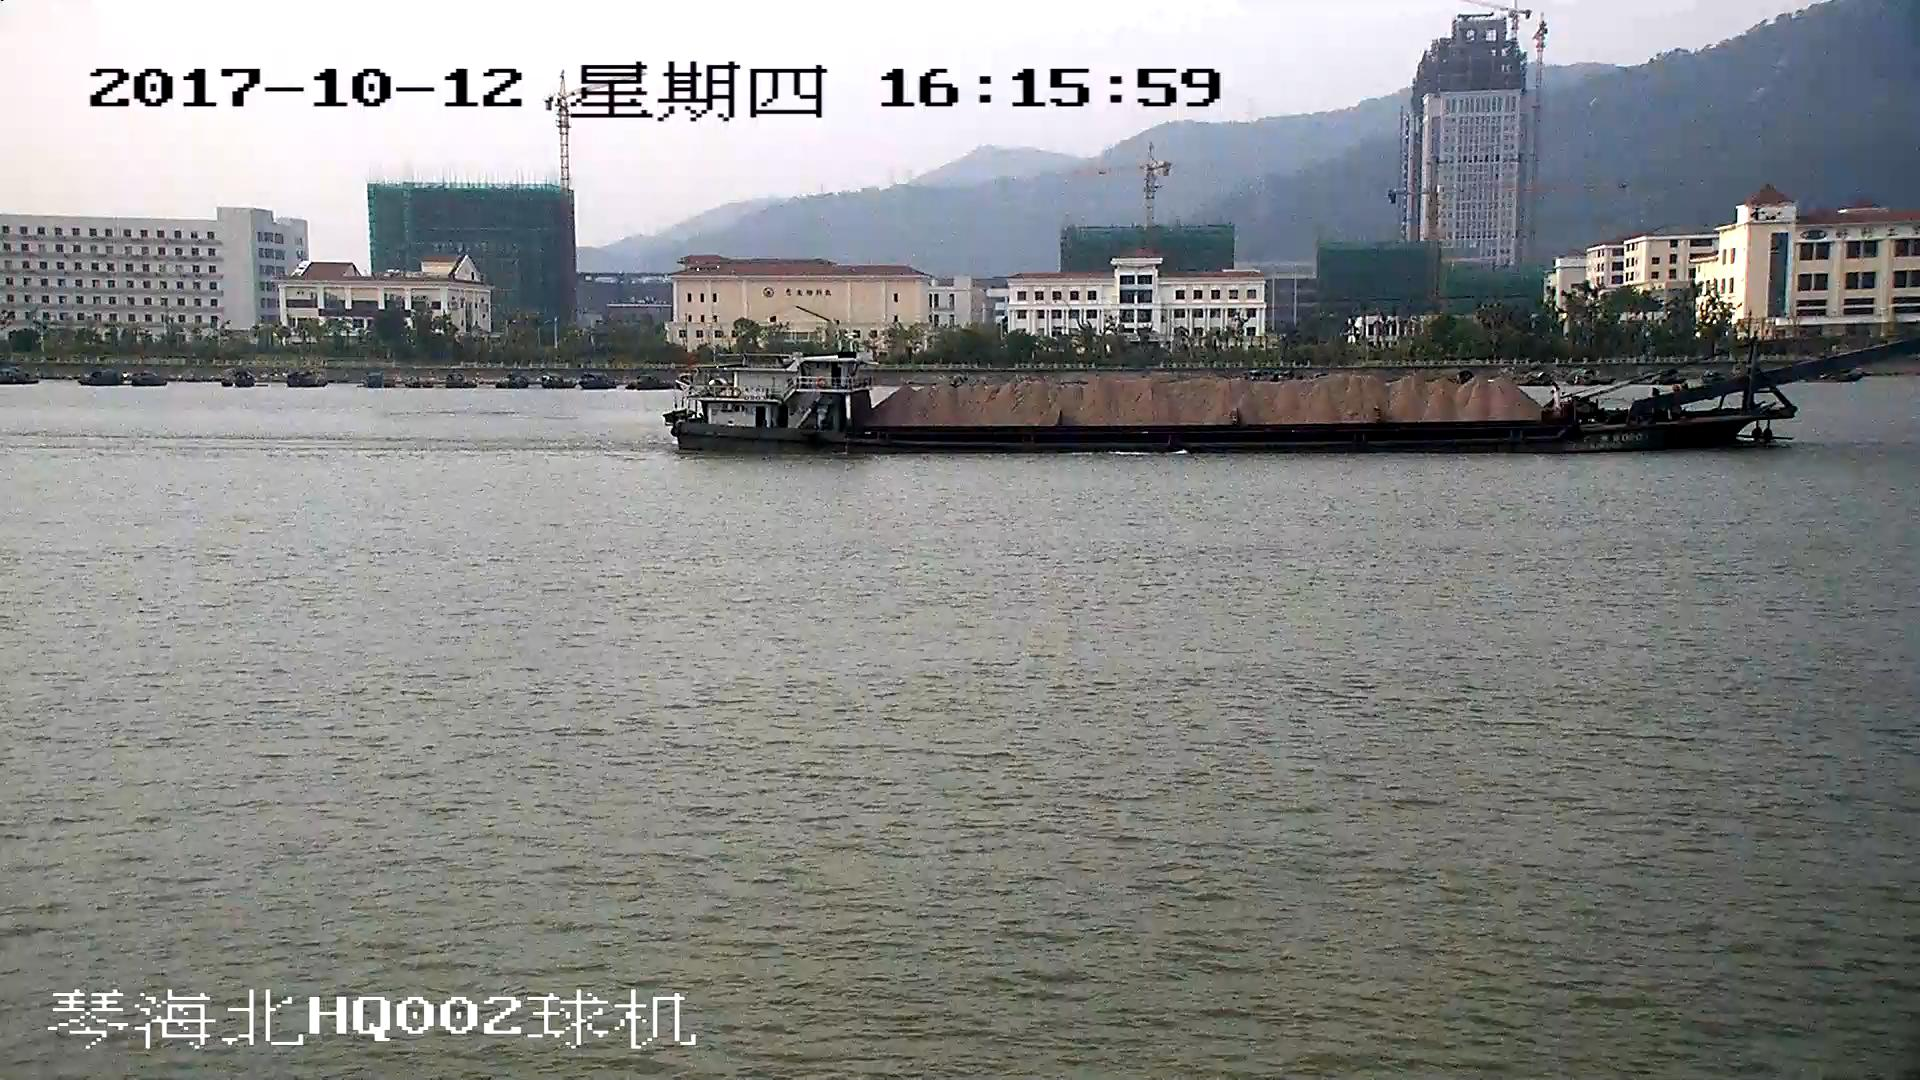ore carrier: (673, 324, 1920, 452)
